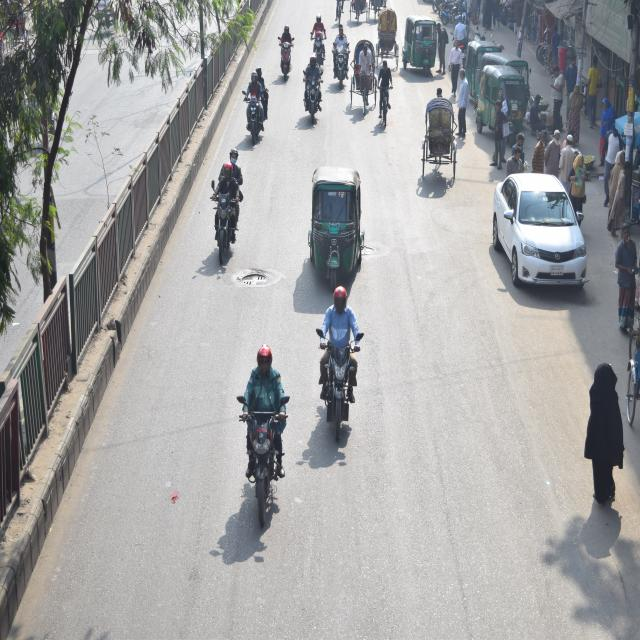car: (488, 170, 592, 307)
motorbike: (226, 373, 290, 541), (319, 321, 362, 470), (206, 164, 239, 272), (242, 86, 266, 154), (332, 38, 349, 104), (304, 69, 319, 138), (278, 37, 296, 84), (310, 33, 326, 71)
